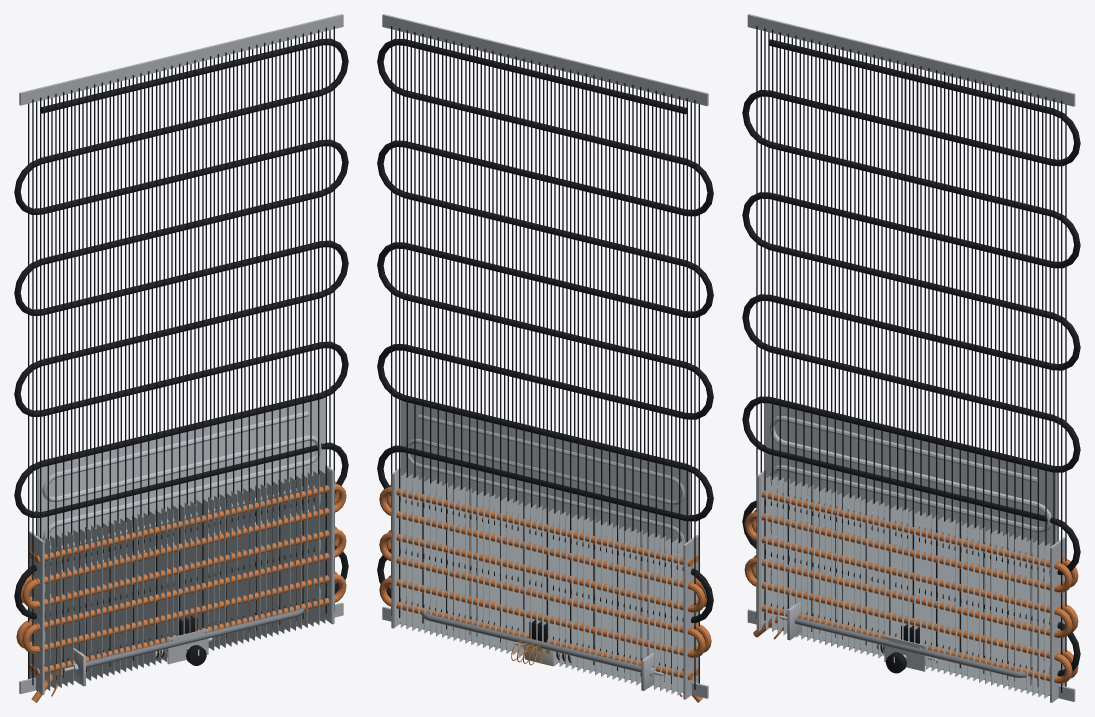
File: frio_calor.glb
3 views of the same model, side by side, from view 1: azimuth 30°, elevation 25°; view 2: azimuth 150°, elevation 25°; view 3: azimuth 330°, elevation 25° (orthographic).
Parts seen in each view (by area): view 1: condensador__cuerpo, condensador@aletas__cuerpo, evaporador__cuerpo, condensador@aletas__cobre, evaporador__metal, condensador__metal, condensador@aletas__metal, resistencia__cuerpo, termostato__metal; view 2: condensador__cuerpo, condensador@aletas__cuerpo, evaporador__cuerpo, condensador@aletas__cobre, condensador__metal, evaporador__metal, condensador@aletas__metal, resistencia__cuerpo; view 3: condensador__cuerpo, condensador@aletas__cuerpo, evaporador__cuerpo, condensador@aletas__cobre, evaporador__metal, condensador__metal, condensador@aletas__metal, resistencia__cuerpo, termostato__metal.
Boxes of the visible parts, box(x1,y1,x2,y2) form: condensador__cuerpo: box(14, 26, 348, 685); condensador@aletas__cuerpo: box(44, 468, 331, 690); evaporador__cuerpo: box(37, 397, 325, 540); condensador@aletas__cobre: box(16, 481, 346, 675); evaporador__metal: box(42, 411, 321, 671); condensador__metal: box(19, 14, 343, 693); condensador@aletas__metal: box(29, 464, 334, 694); resistencia__cuerpo: box(86, 608, 304, 668); termostato__metal: box(167, 628, 208, 664); condensador__cuerpo: box(377, 26, 713, 689); condensador@aletas__cuerpo: box(394, 471, 683, 695); evaporador__cuerpo: box(400, 400, 690, 543); condensador@aletas__cobre: box(379, 484, 711, 680); condensador__metal: box(382, 14, 708, 698); evaporador__metal: box(405, 414, 685, 674); condensador@aletas__metal: box(391, 467, 698, 699); resistencia__cuerpo: box(421, 612, 641, 672); condensador__cuerpo: box(742, 26, 1080, 692); condensador@aletas__cuerpo: box(760, 473, 1050, 698); evaporador__cuerpo: box(766, 403, 1056, 546); condensador@aletas__cobre: box(744, 490, 1078, 683); evaporador__metal: box(769, 415, 1051, 679); condensador__metal: box(747, 14, 1075, 701); condensador@aletas__metal: box(756, 469, 1065, 702); resistencia__cuerpo: box(794, 617, 1026, 677); termostato__metal: box(884, 635, 925, 671).
Bounding box in the file's own units: 46.49 × 81.28 × 9.9.
